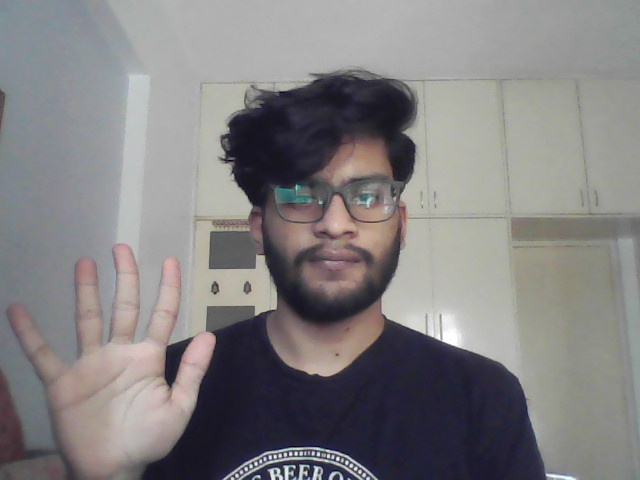Goodbye: (4, 242, 217, 475)
